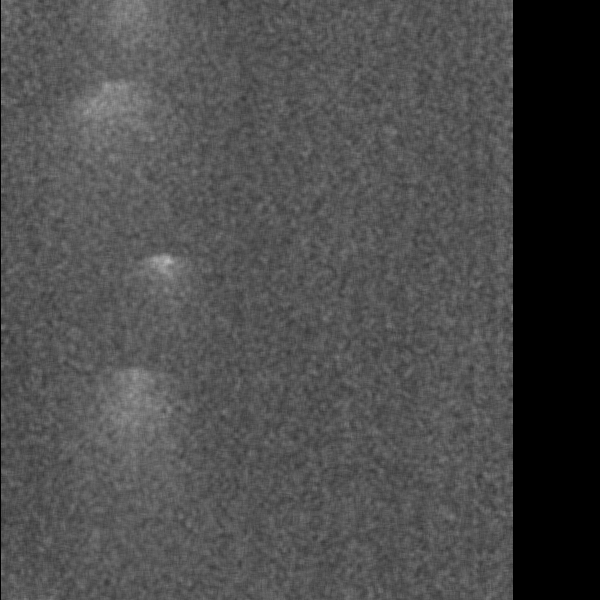spark: (58, 362, 135, 483), (80, 76, 175, 141), (141, 247, 186, 297)
